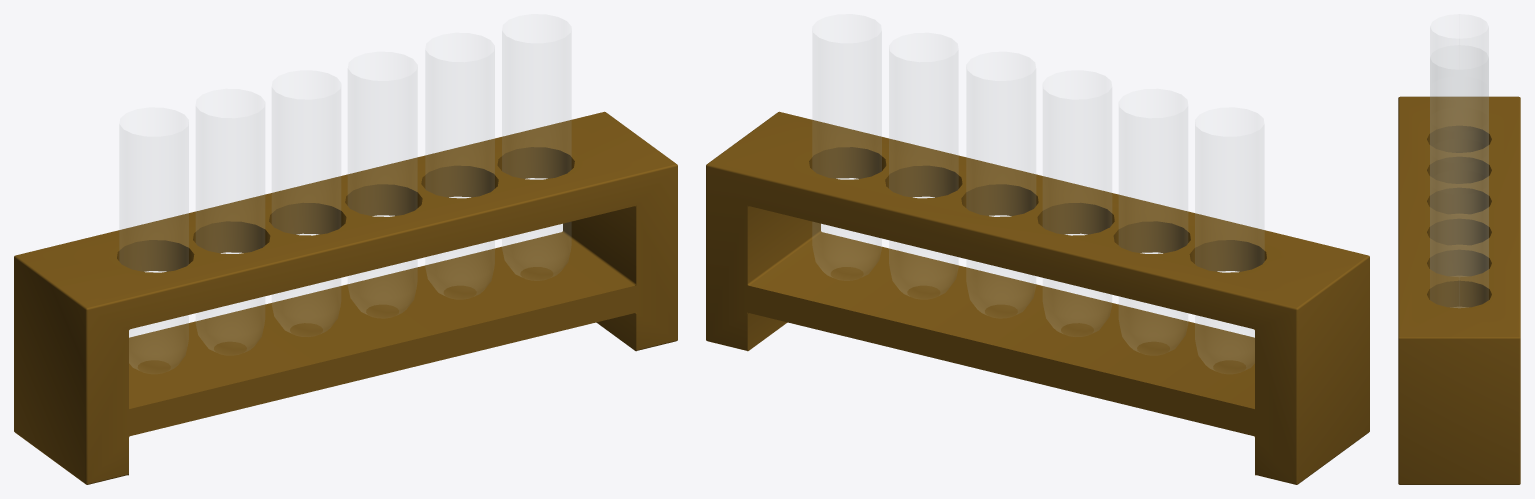
The model's file is testTubes.fbx.
3 renders of one model, left to right at view 1: azimuth 30°, elevation 25°; view 2: azimuth 150°, elevation 25°; view 3: azimuth 270°, elevation 25°, orthographic. The views are drawn at different scales.
Parts seen in each view (by area): view 1: Cube, Cube_1, Cylinder, Capsule_4, Capsule_5, Capsule_1, Capsule_3, Capsule_2, Capsule; view 2: Cube, Cube_1, Cylinder, Capsule_4, Capsule_5, Capsule_1, Capsule_3, Capsule_2, Capsule; view 3: Cube, Cylinder, Capsule_5, Capsule_4, Capsule_3, Capsule_2, Capsule_1, Capsule, Cube_1.
Boxes of the visible parts, x1,y1,x2,y2 form: Cube: (14,111,677,484); Cube_1: (128,206,636,475); Cylinder: (117,147,574,271); Capsule_4: (426,49,494,295); Capsule_5: (502,31,570,276); Capsule_1: (196,107,264,351); Capsule_3: (348,69,416,313); Capsule_2: (272,88,340,332); Capsule: (120,124,188,369); Cube: (706,111,1369,484); Cube_1: (747,206,1255,475); Cylinder: (809,147,1266,271); Capsule_4: (889,49,957,295); Capsule_5: (813,31,881,276); Capsule_1: (1119,107,1187,351); Capsule_3: (967,69,1035,313); Capsule_2: (1043,88,1111,332); Capsule: (1195,124,1263,369); Cube: (1398,96,1520,484); Cylinder: (1427,125,1491,307); Capsule_5: (1430,183,1488,307); Capsule_4: (1430,152,1488,307); Capsule_3: (1430,120,1488,180); Capsule_2: (1430,89,1488,148); Capsule_1: (1430,58,1488,117); Capsule: (1430,27,1488,86); Cube_1: (1450,151,1468,308).
Bounding box in the file's own units: 350 × 176 × 75.
